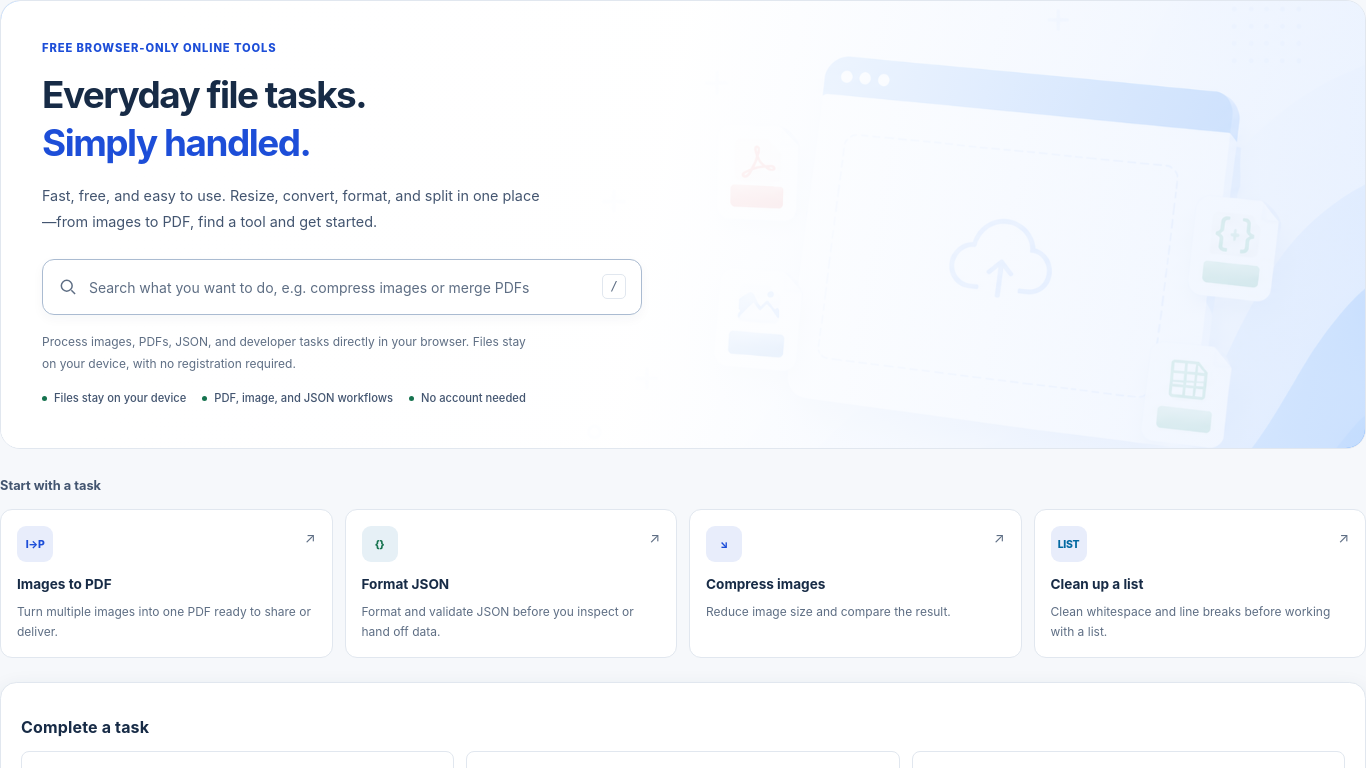
Test: HomePage task-first hierarchy › shows one focused result collection while search is active
Step 1. Replace the text in the field named "Search Tools" with "not-a-real-tool" → (342,287), box [42,259,642,315]
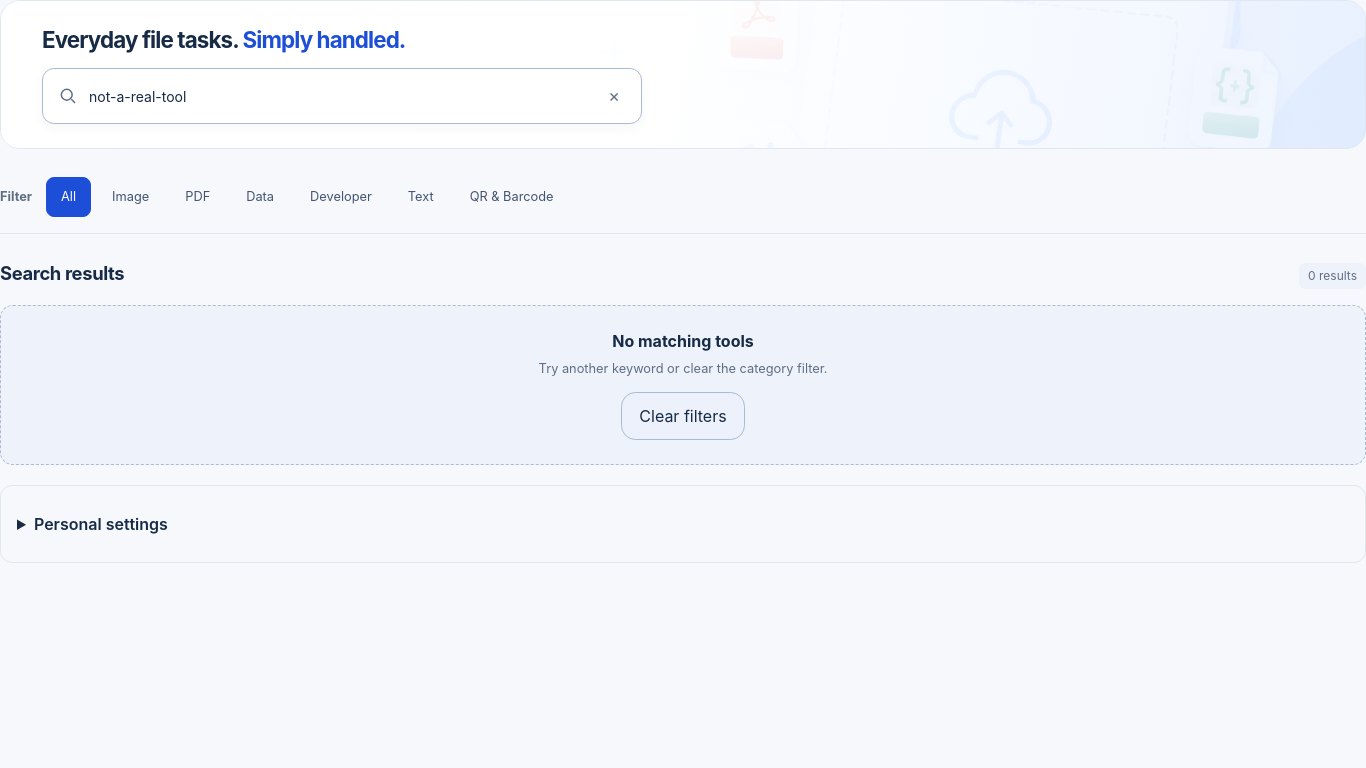
Expected: the text "No matching tools" is shown, [612,330,754,350]
